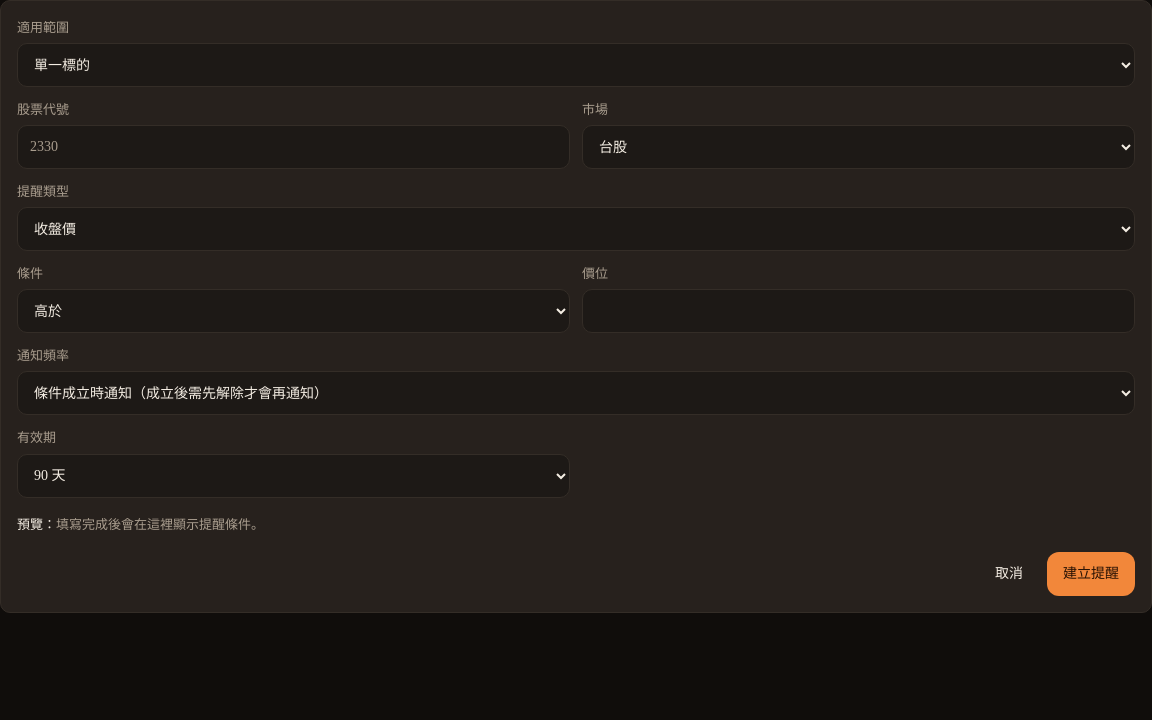
Test: AlertForm validation and switching › switching to the watchlist scope drops the price template
Select "自選股群組（相對條件）" in the dropdown labelled "適用範圍": (576, 65) [17,43,1135,87]
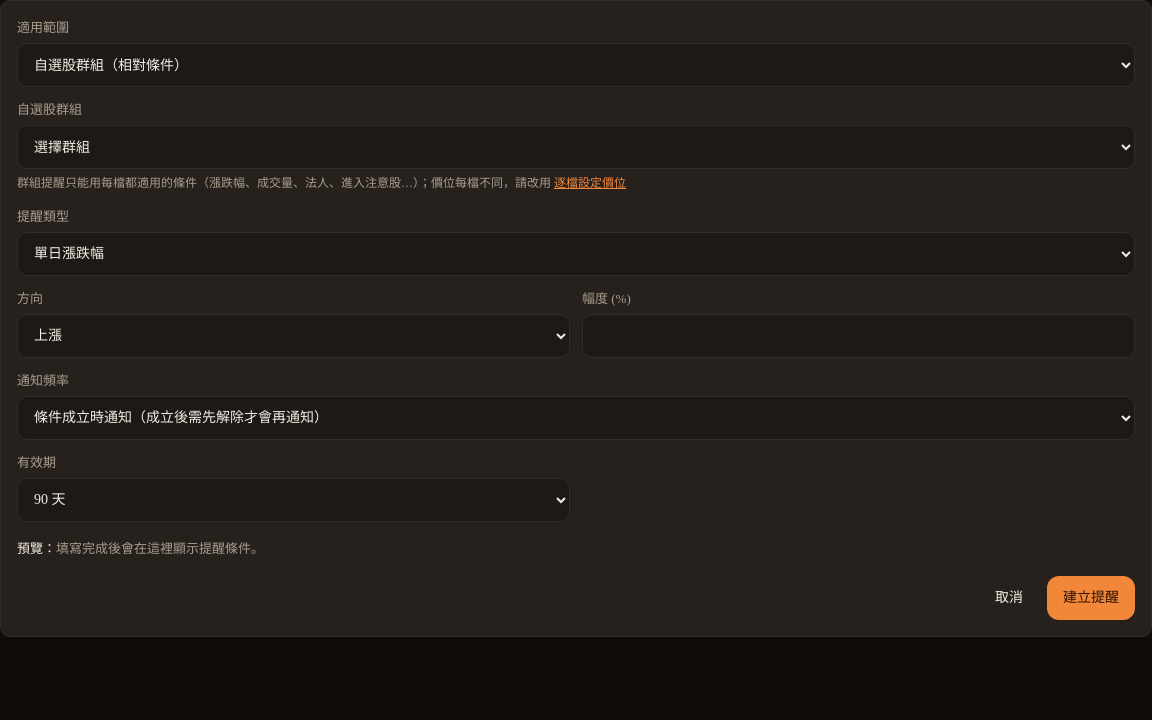
Result: the dropdown labelled "提醒類型" shows "單日漲跌幅" at [17,232,1135,276]
